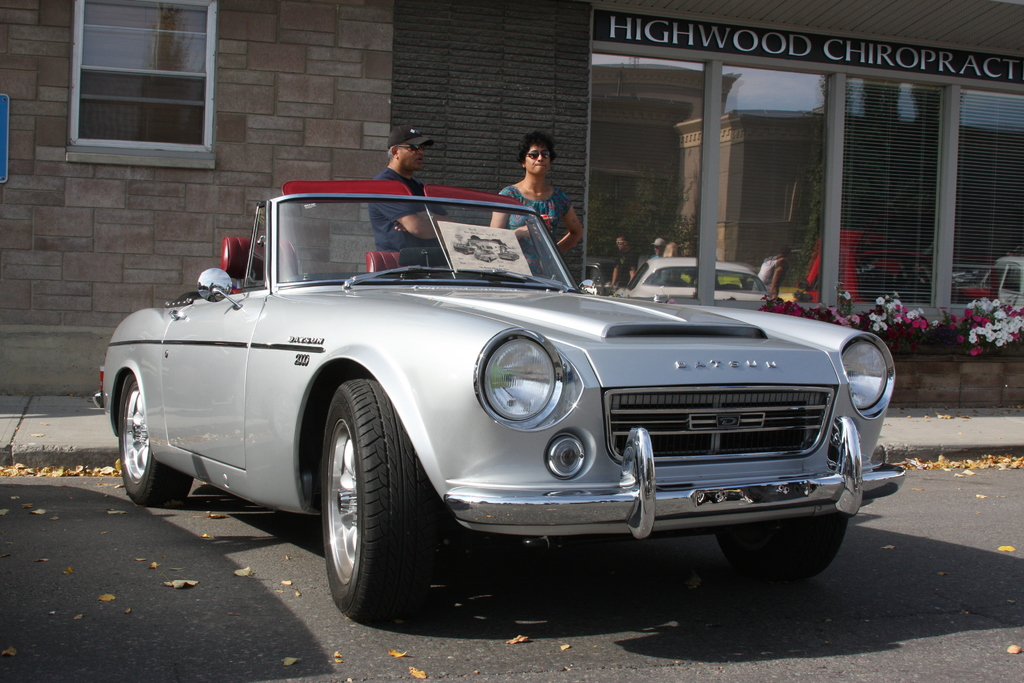Car: (91, 180, 906, 621)
